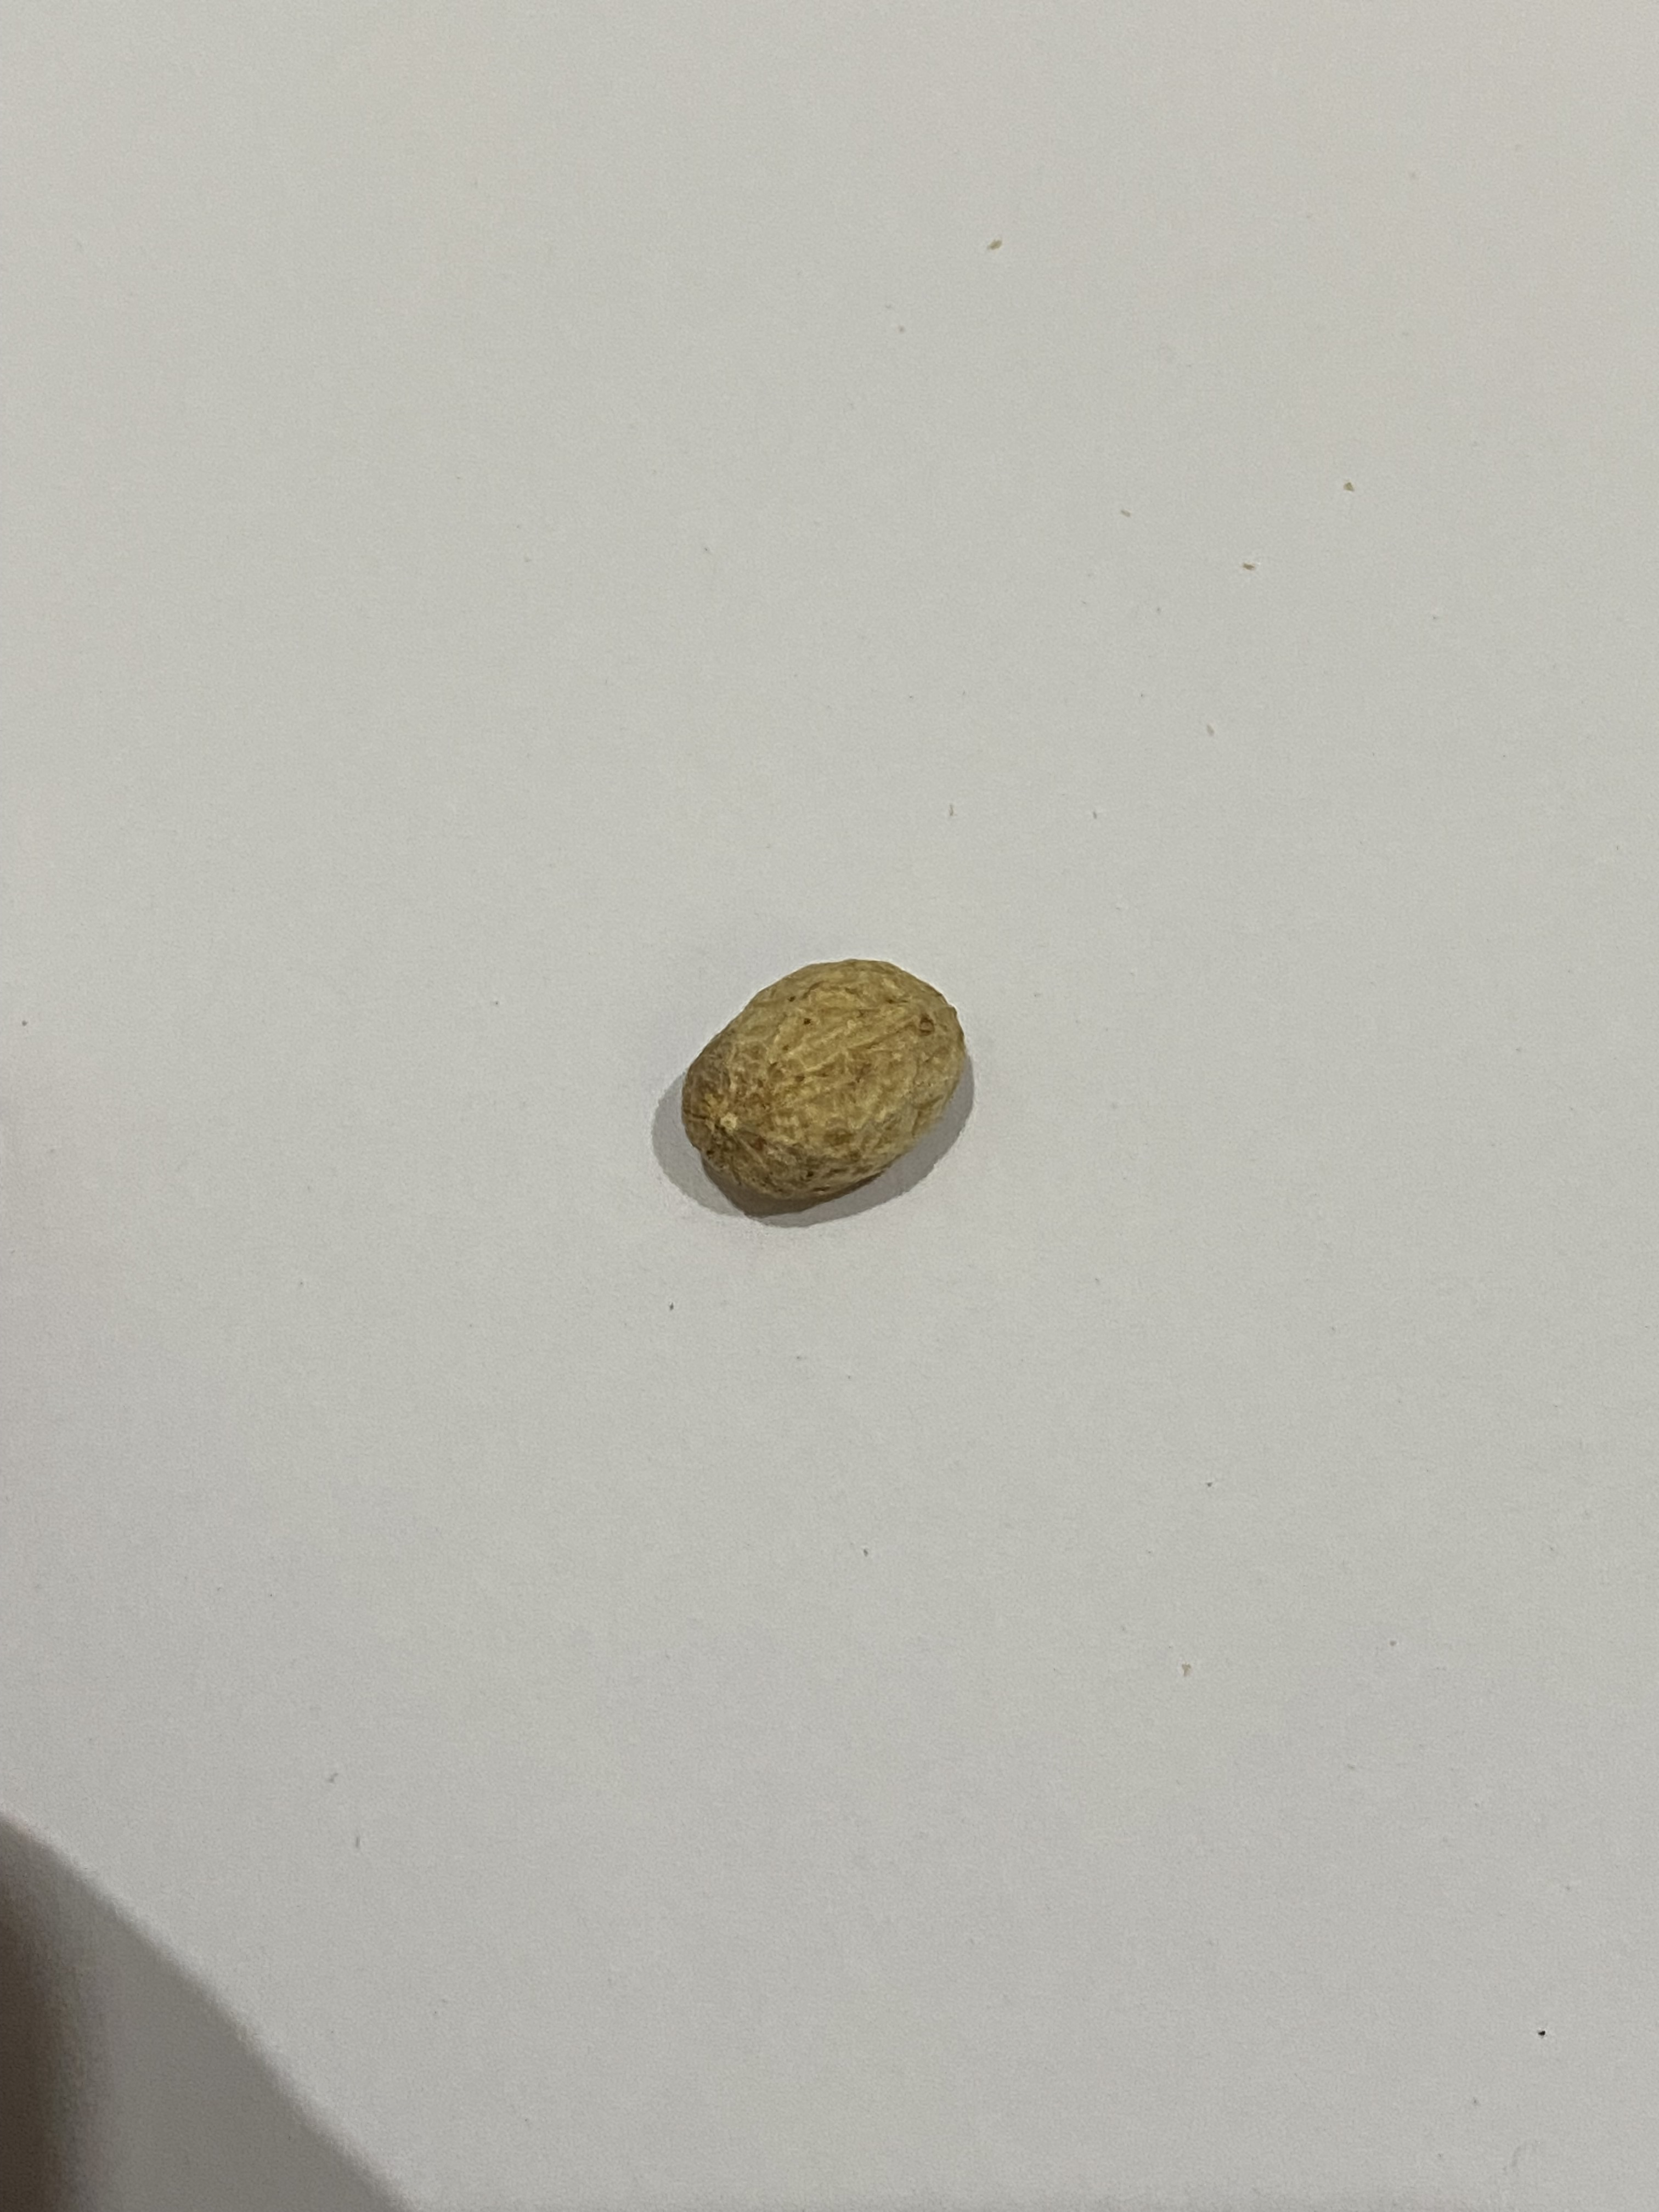kacang1: (601, 925, 1002, 1216)
